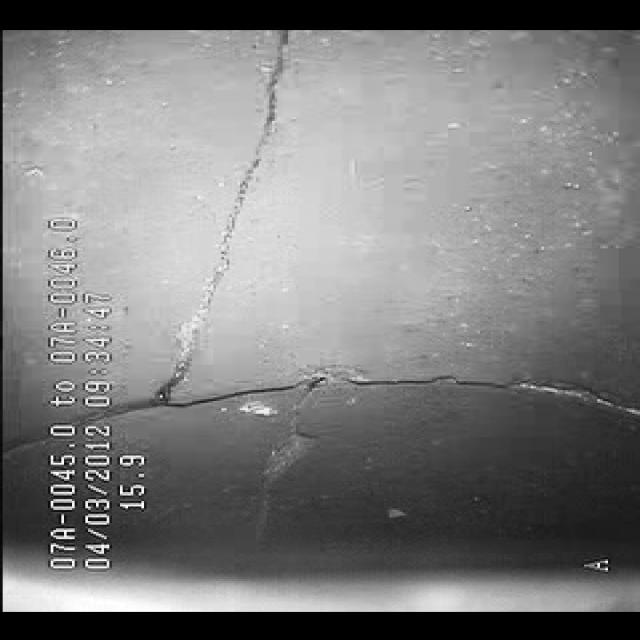Crack: (147, 59, 307, 377), (151, 336, 595, 437)
